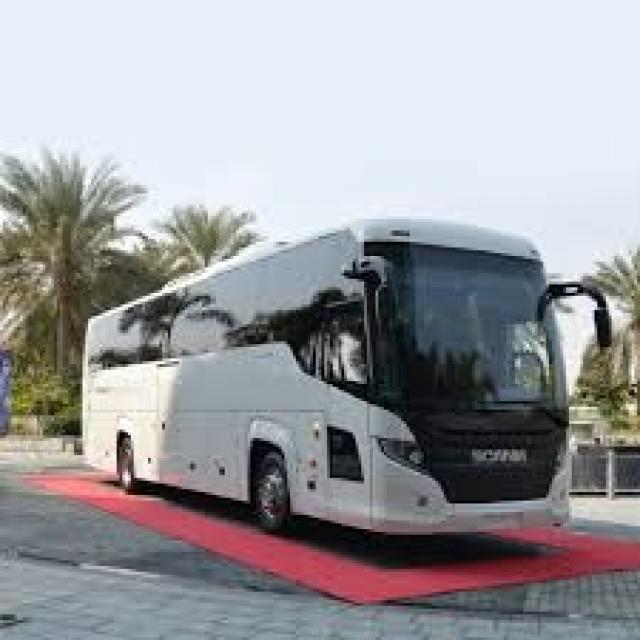bus: (61, 198, 629, 568)
